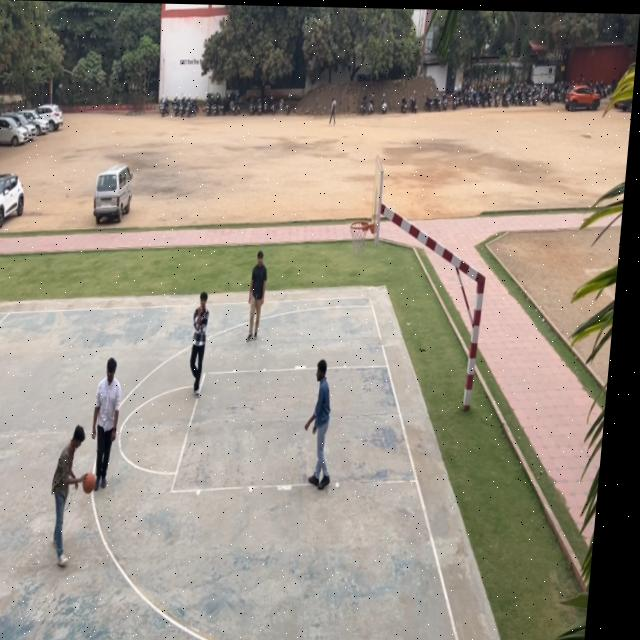basketball: (80, 470, 99, 497)
hoop: (347, 217, 371, 255)
